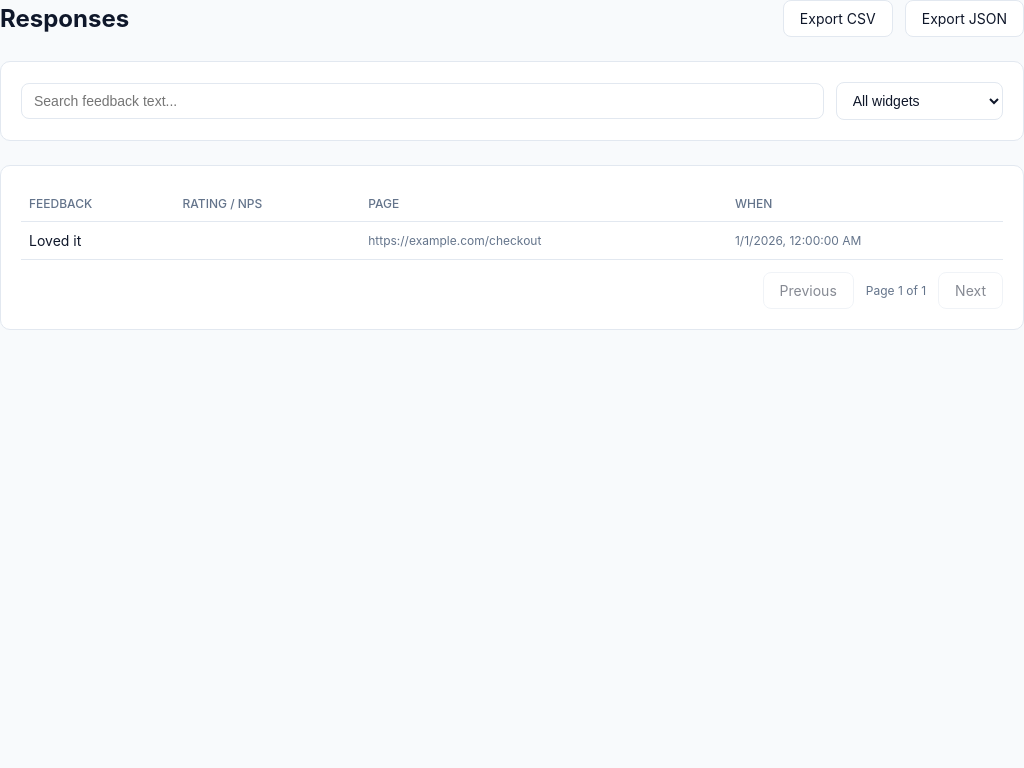
Test: ResponsesPage › falls back to the raw value when an answer has no resolved optionLabels
Click the text "Loved it" at (98, 240), box x1=21 y1=222 x2=175 y2=260
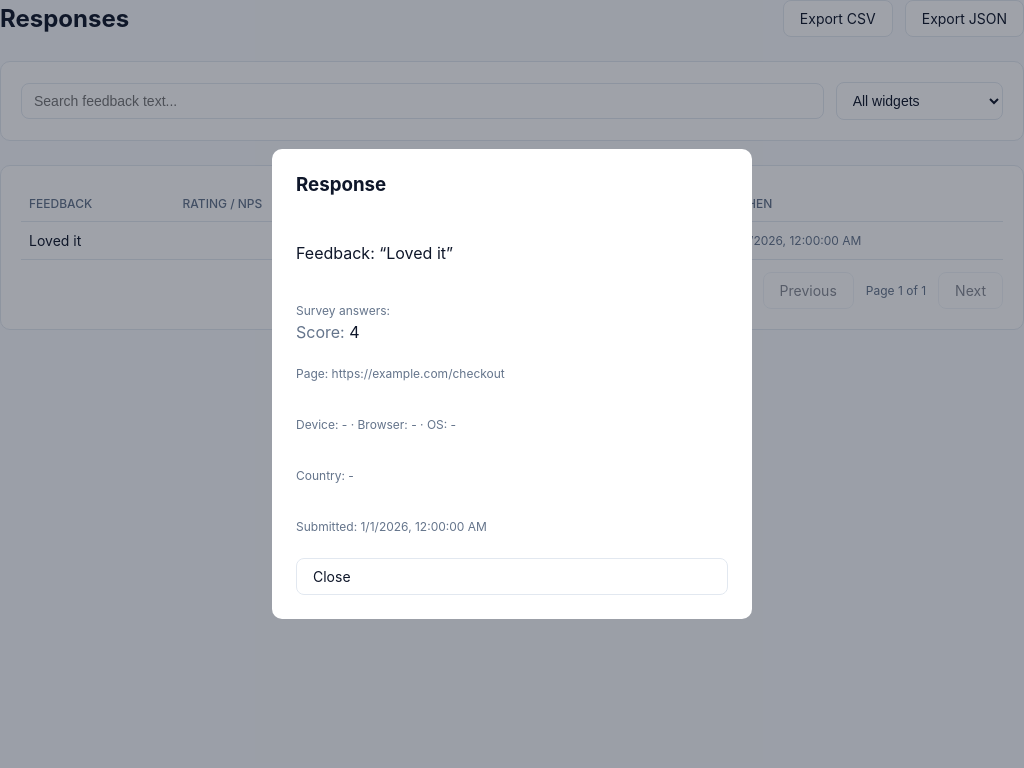
Expected: the text "Score:" shows "4", x1=349 y1=322 x2=360 y2=342
